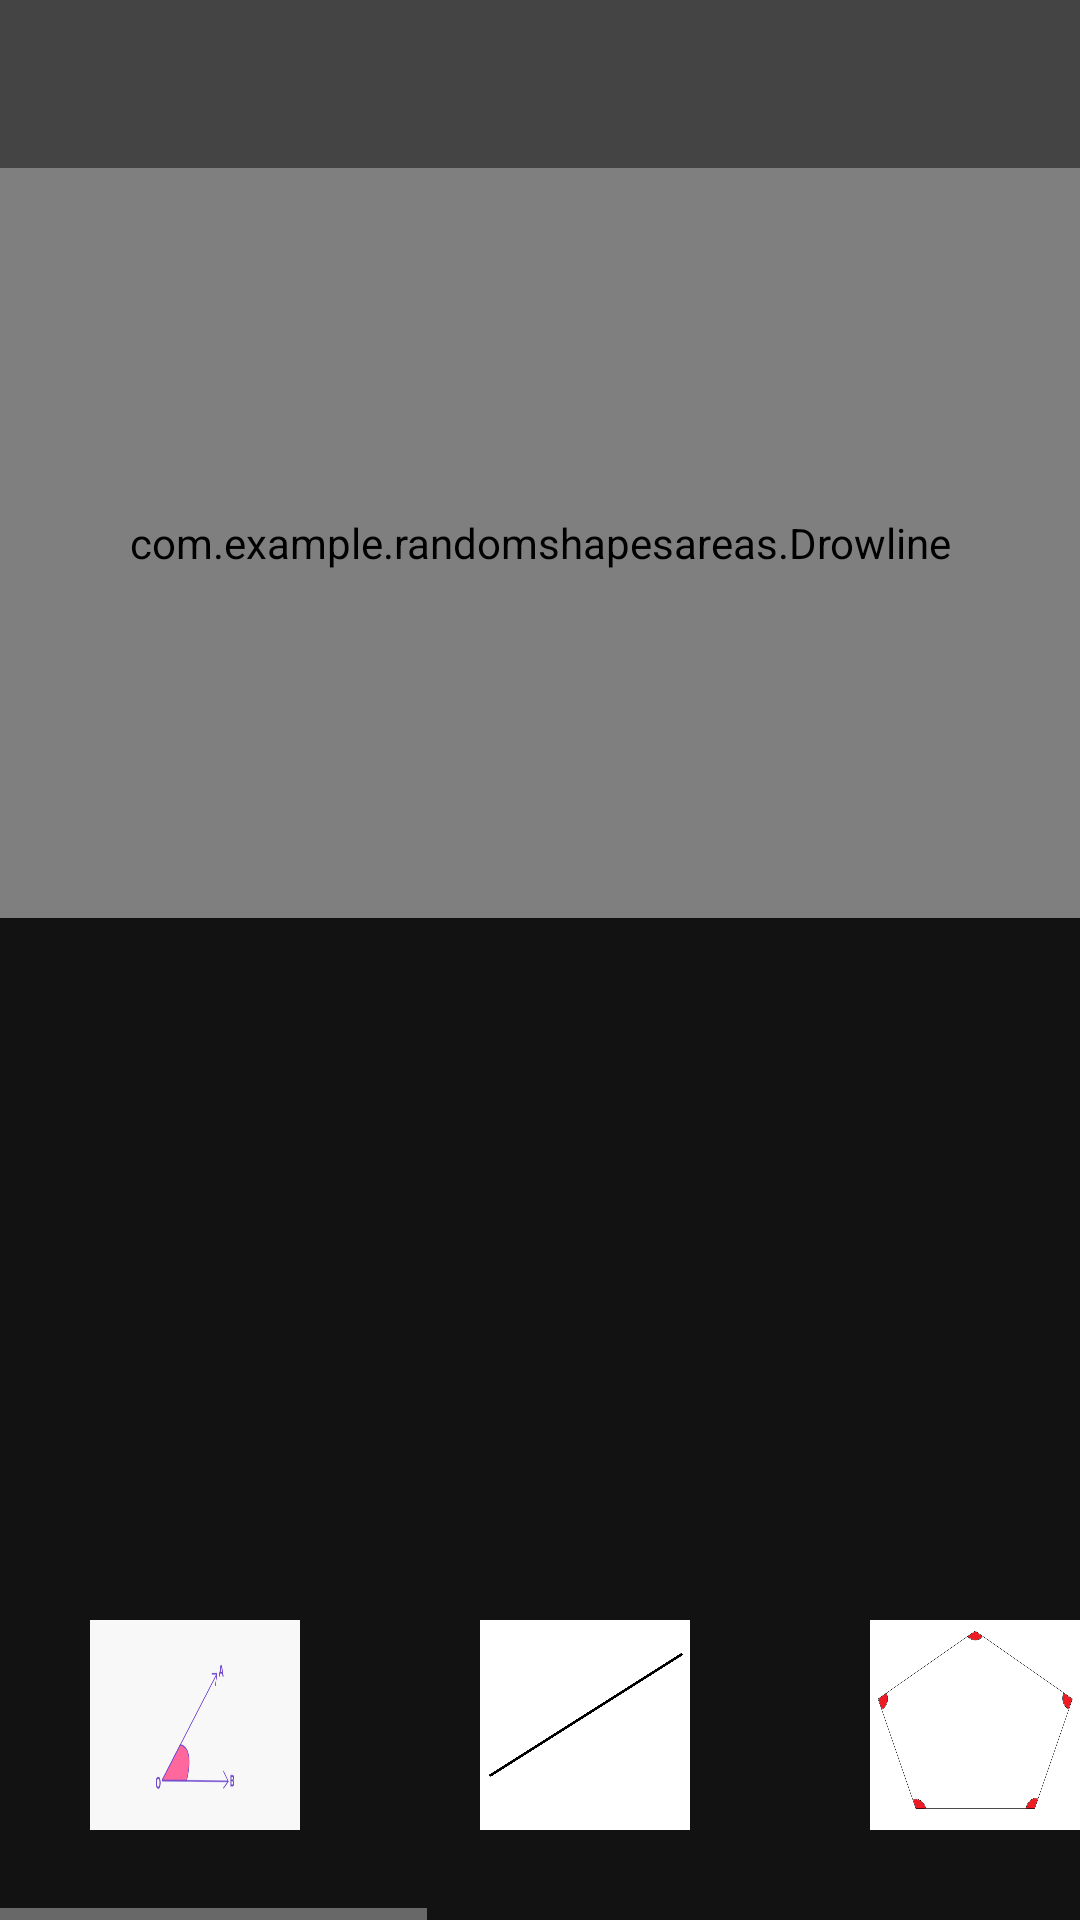

Point at icon controls on the screen. Image size 1080 x 1920, points as [x,y].
angle: [195,1725]
line: [585,1725]
plygon angles: [975,1725]
